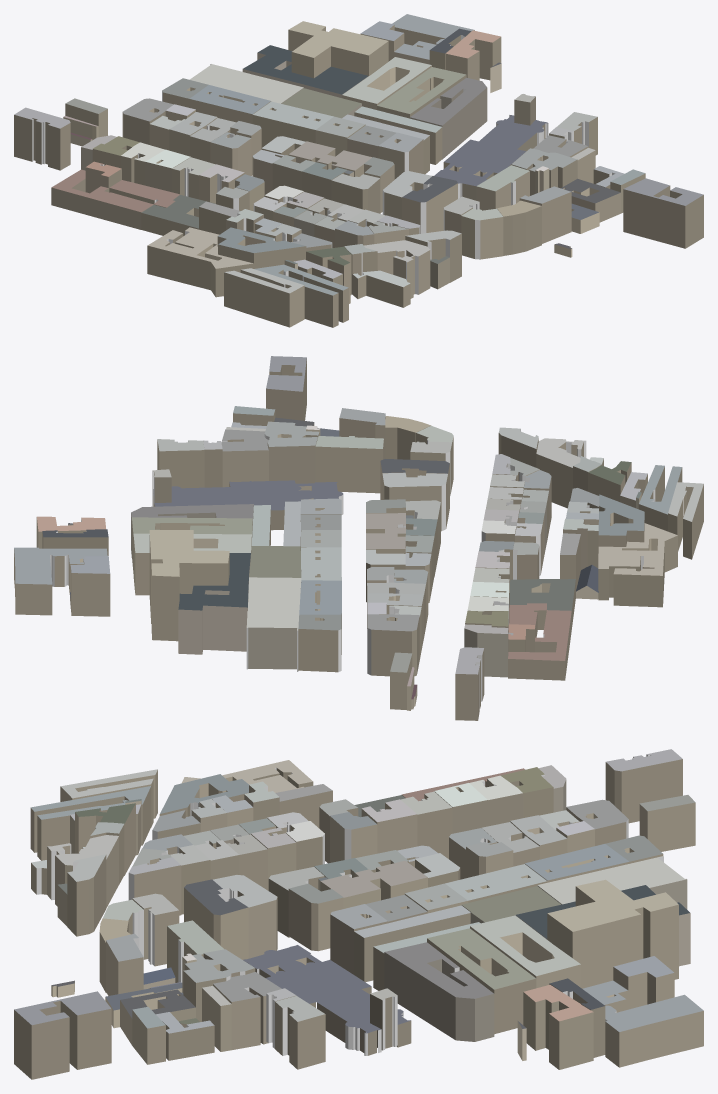
The picture shows the model from 3 angles, top to bottom: view 1: azimuth 30°, elevation 25°; view 2: azimuth 150°, elevation 25°; view 3: azimuth 270°, elevation 25°; orthographic projection. The views are drawn at different scales.
Parts seen in each view (by area): view 1: tuile; view 2: tuile; view 3: tuile.
Part boxes in pixels (<box>): tuile: <box>14,14,703,327</box>; tuile: <box>14,356,703,720</box>; tuile: <box>14,749,703,1079</box>.
Bounding box in the file's own units: 280 × 38.21 × 284.
